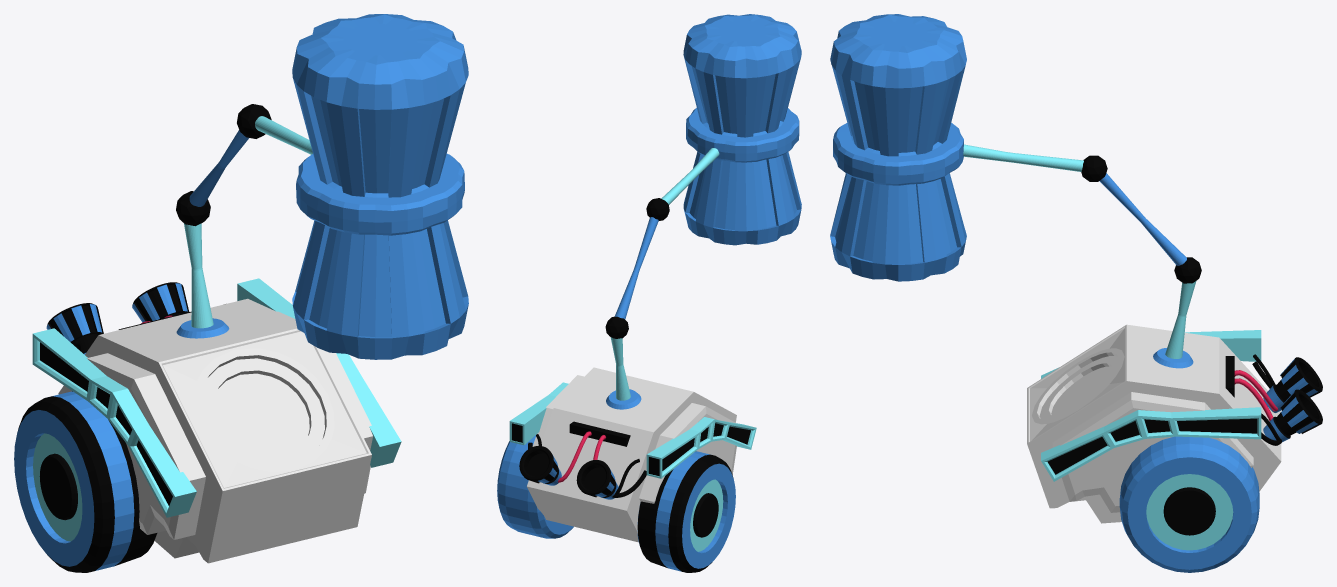
The model's file is cars for game.fbx.
The picture shows the model from 3 angles, left to right: view 1: azimuth 30°, elevation 25°; view 2: azimuth 150°, elevation 25°; view 3: azimuth 270°, elevation 25°; orthographic projection. The views are drawn at different scales.
Parts seen in each view (by area): view 1: Circle.001, Cube.004, Circle.002, Cube.001, Cube, Cylinder, Cylinder.002, Cylinder.001, Icosphere, Icosphere.001; view 2: Circle.001, Cube.004, Circle.002, Cube.001, Circle, Cylinder, Cube, Cylinder.001, Cylinder.002, Cube.002, Icosphere, Icosphere.001 (+1 smaller); view 3: Circle.001, Cube.004, Circle, Cube.001, Cube, Cylinder, Cylinder.001, Cylinder.002, BezierCurve.002.
Boxes of the visible parts, x1,y1,x2,y2 form: Circle.001: (292, 14, 468, 359); Cube.004: (58, 298, 371, 563); Circle.002: (14, 391, 157, 572); Cube.001: (32, 278, 401, 517); Cube: (64, 311, 372, 539); Cylinder: (176, 116, 312, 338); Cylinder.002: (46, 303, 103, 354); Cylinder.001: (132, 282, 189, 322); Icosphere: (176, 191, 210, 226); Icosphere.001: (237, 104, 271, 138); Circle.001: (683, 14, 801, 245); Cube.004: (527, 367, 736, 542); Circle.002: (637, 451, 735, 572); Cube.001: (509, 382, 756, 478); Circle: (497, 434, 573, 538); Cylinder: (606, 148, 719, 409); Cube: (532, 375, 736, 503); Cylinder.001: (519, 446, 561, 485); Cylinder.002: (576, 460, 618, 499); Cube.002: (569, 421, 630, 446); Icosphere: (605, 316, 628, 338); Icosphere.001: (646, 198, 669, 220); Circle.001: (830, 14, 966, 281); Cube.004: (1027, 324, 1281, 523); Circle: (1119, 436, 1259, 572); Cube.001: (1041, 330, 1261, 481); Cube: (1052, 392, 1253, 512); Cylinder: (963, 144, 1196, 368); Cylinder.001: (1263, 389, 1322, 442); Cylinder.002: (1263, 357, 1322, 412); BezierCurve.002: (1234, 370, 1278, 420).
Size of the model in its own units: 370 by 812 by 739.
